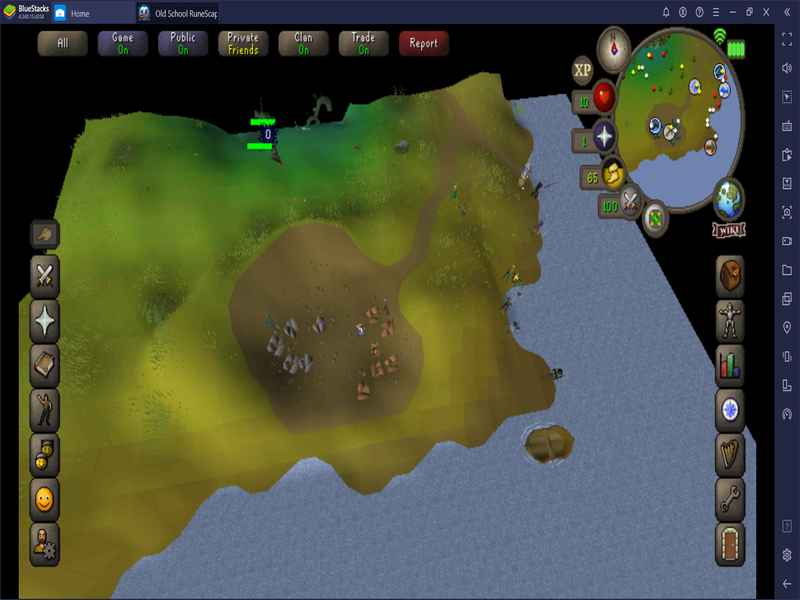copper_rock_1: (364, 305, 382, 326)
copper_rock_2: (378, 315, 396, 341)
